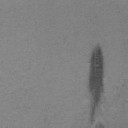oxide scale of plate system: (87, 41, 106, 128)
